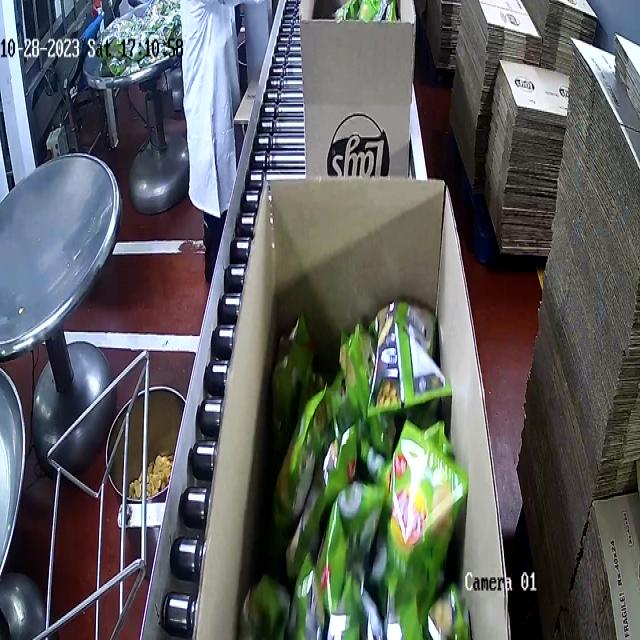YOGURT_HERB: (237, 291, 472, 640)
